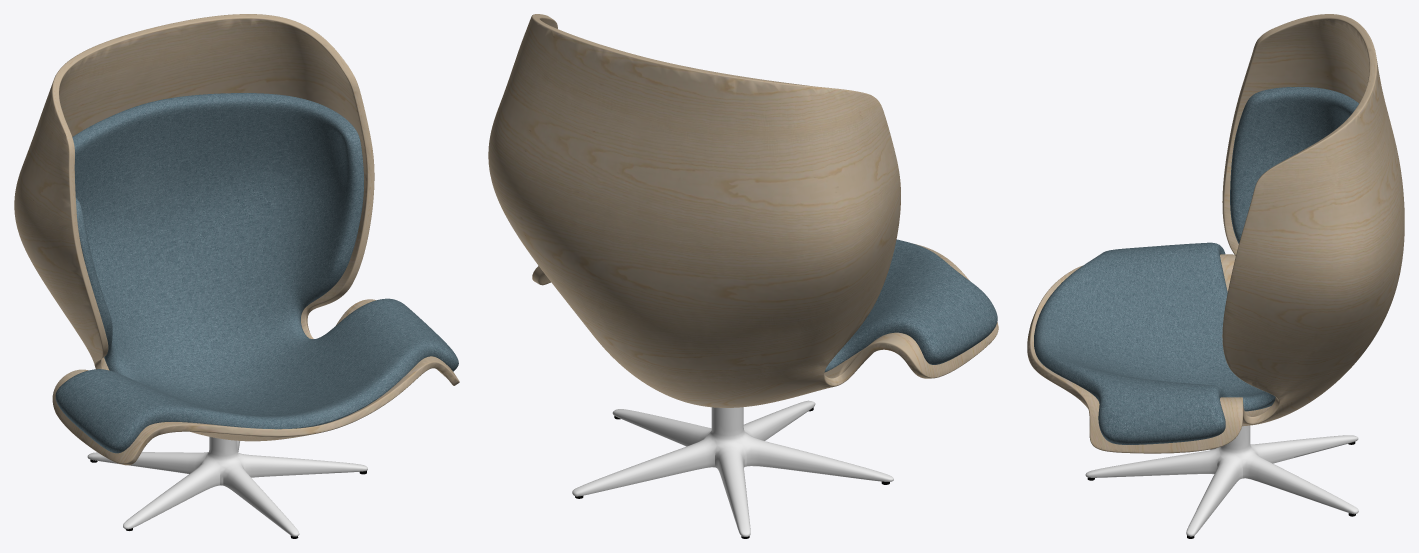
File: concept-chair.glb
3 views of the same model, side by side, from view 1: azimuth 30°, elevation 25°; view 2: azimuth 150°, elevation 25°; view 3: azimuth 270°, elevation 25° (orthographic). The views are drawn at different scales.
Parts seen in each view (by area): view 1: Plane.003, Plane.002, Cylinder; view 2: Plane.002, Cylinder, Plane.003; view 3: Plane.002, Plane.003, Cylinder.
Part boxes in pixels (<box>): Plane.003: <box>55,93,458,453</box>; Plane.002: <box>14,14,459,465</box>; Cylinder: <box>87,436,367,538</box>; Plane.002: <box>488,14,998,407</box>; Cylinder: <box>572,400,893,538</box>; Plane.003: <box>538,239,997,372</box>; Plane.002: <box>1027,14,1404,453</box>; Plane.003: <box>1034,86,1358,444</box>; Cylinder: <box>1085,425,1358,538</box>.
Bounding box in the file's own units: 2.16 × 2.36 × 1.96.
Materials: 4 (2 with a texture image).
